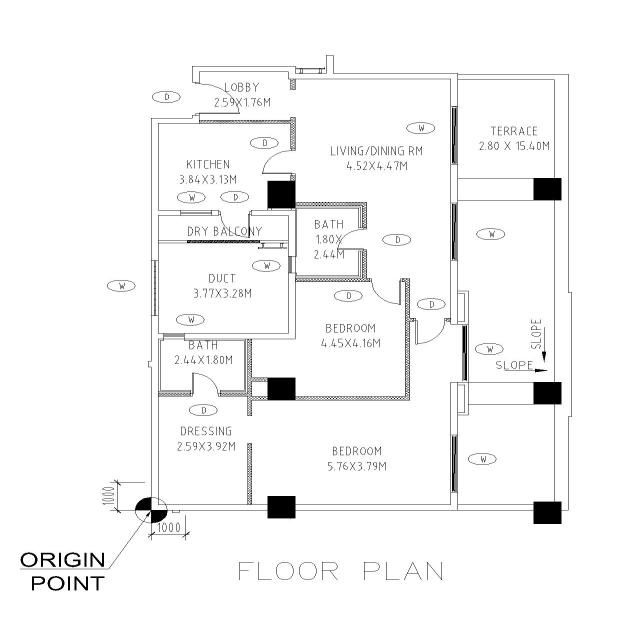Column: (264, 375, 299, 404), (530, 378, 564, 407), (266, 180, 297, 210), (532, 174, 564, 203), (530, 500, 564, 526), (266, 494, 298, 520)
Door: (189, 80, 203, 116), (188, 389, 222, 399), (358, 225, 368, 253), (218, 209, 255, 216), (412, 316, 448, 323), (288, 146, 296, 177), (370, 278, 404, 283)
Opening: (288, 88, 296, 119), (246, 412, 253, 446)
Window: (448, 430, 462, 496), (447, 104, 461, 166), (447, 202, 461, 264), (458, 322, 472, 383), (150, 258, 160, 318), (178, 208, 214, 217), (162, 332, 186, 342), (287, 253, 297, 275)
